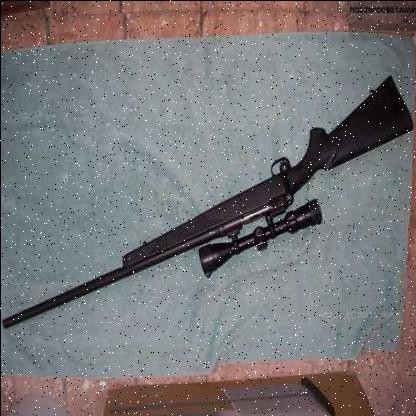rifle: (1, 63, 416, 348)
